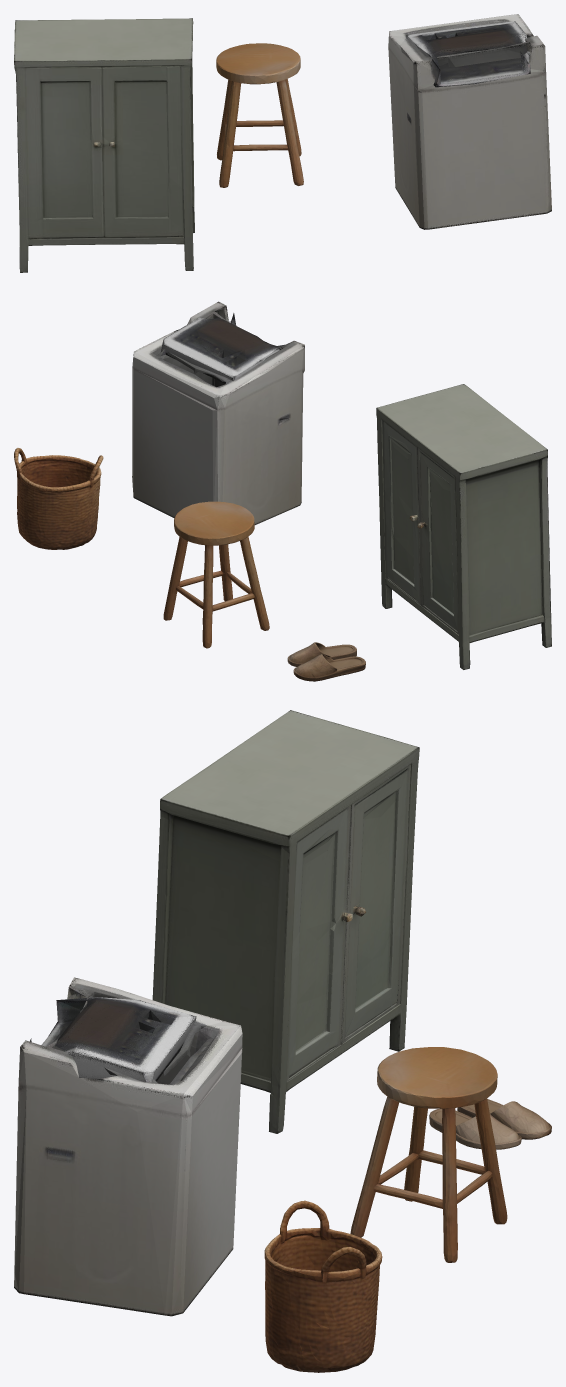
Rendered from figure6-8.glb.
3 renders of one model, top to bottom at view 1: azimuth 30°, elevation 25°; view 2: azimuth 150°, elevation 25°; view 3: azimuth 270°, elevation 25°, orthographic. The views are drawn at different scales.
Parts seen in each view (by area): view 1: obj_1_part_0, obj_0_part_0, obj_3_part_0, obj_0_part_1; view 2: obj_1_part_0, obj_0_part_0, obj_2_part_0, obj_3_part_0, obj_1_part_1, obj_1_part_2, obj_0_part_1, obj_4_part_0; view 3: obj_0_part_0, obj_1_part_0, obj_2_part_0, obj_3_part_0, obj_1_part_1, obj_1_part_2, obj_0_part_1, obj_4_part_0.
Part boxes in pixels (bbox=[...]): obj_1_part_0: bbox=[14, 18, 194, 272]; obj_0_part_0: bbox=[388, 14, 551, 229]; obj_3_part_0: bbox=[216, 43, 303, 187]; obj_0_part_1: bbox=[406, 21, 530, 87]; obj_1_part_0: bbox=[376, 384, 551, 669]; obj_0_part_0: bbox=[132, 301, 304, 524]; obj_2_part_0: bbox=[14, 448, 103, 549]; obj_3_part_0: bbox=[163, 501, 269, 648]; obj_1_part_1: bbox=[417, 447, 458, 634]; obj_1_part_2: bbox=[382, 420, 420, 605]; obj_0_part_1: bbox=[161, 313, 284, 383]; obj_4_part_0: bbox=[287, 642, 365, 681]; obj_0_part_0: bbox=[14, 977, 242, 1316]; obj_1_part_0: bbox=[152, 710, 419, 1133]; obj_2_part_0: bbox=[264, 1200, 382, 1372]; obj_3_part_0: bbox=[350, 1047, 507, 1262]; obj_1_part_1: bbox=[341, 764, 410, 1044]; obj_1_part_2: bbox=[286, 805, 352, 1081]; obj_0_part_1: bbox=[30, 997, 196, 1082]; obj_4_part_0: bbox=[429, 1099, 551, 1149].
Size of the model in its own units: 1.59 by 0.6326 by 0.9647.
Materials: 8 (8 with a texture image).
